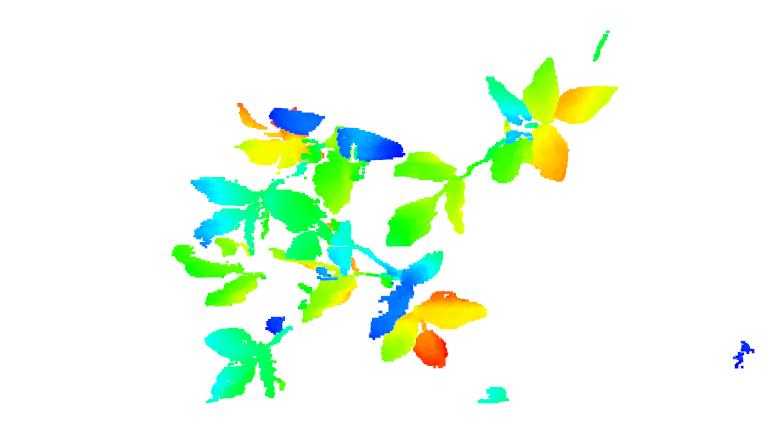mungbean: (380, 52, 622, 250), (184, 92, 390, 251), (173, 238, 359, 406), (328, 227, 494, 369)
